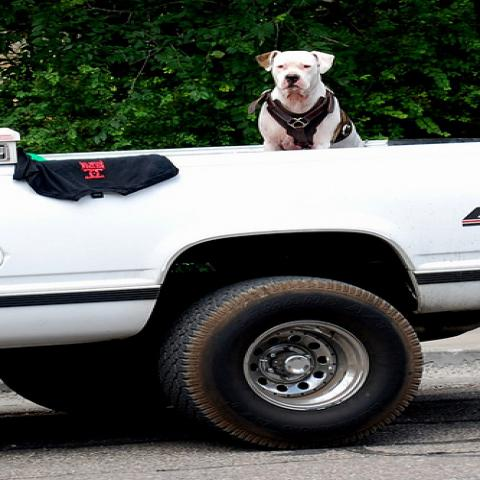truck: (0, 127, 479, 450)
